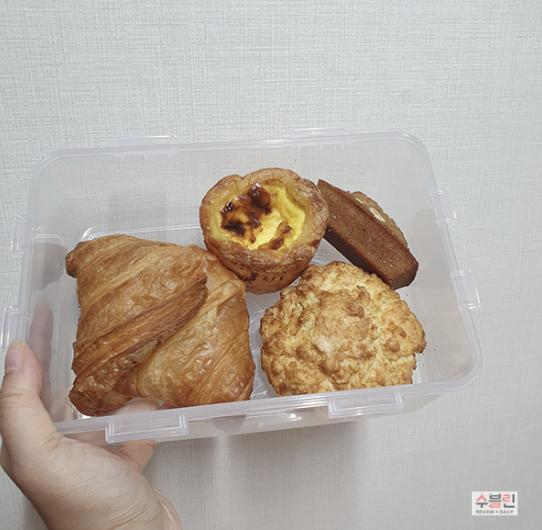Lunch Box: (0, 128, 480, 443)
